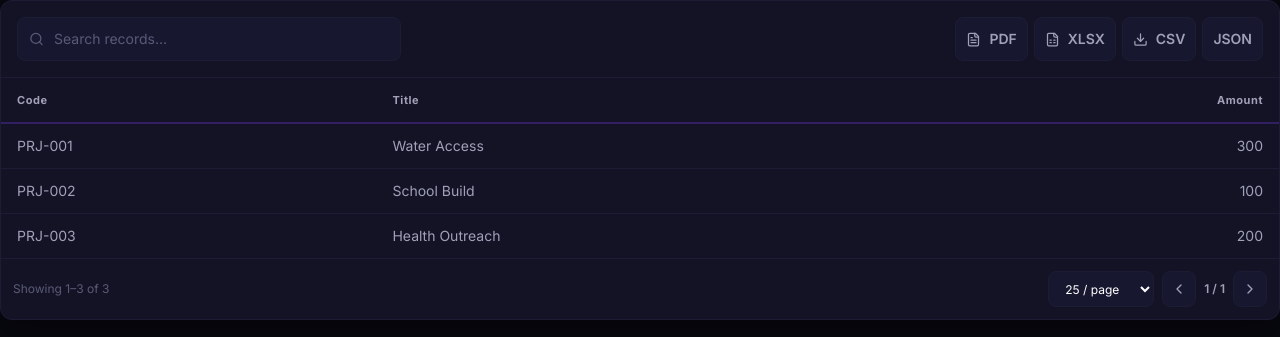
Scenario: DataTable › shows an empty state when nothing matches
Step 1. Type "zzzznomatch" into the search field with placeholder "Search records…" → (209, 39), box [17,17,401,61]
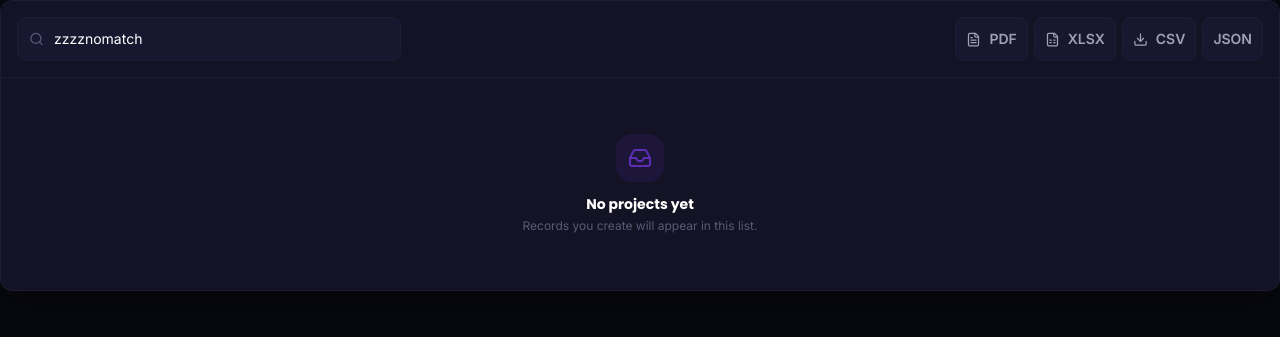
Expected: the heading "No projects yet" is shown, [586,194,694,214]
